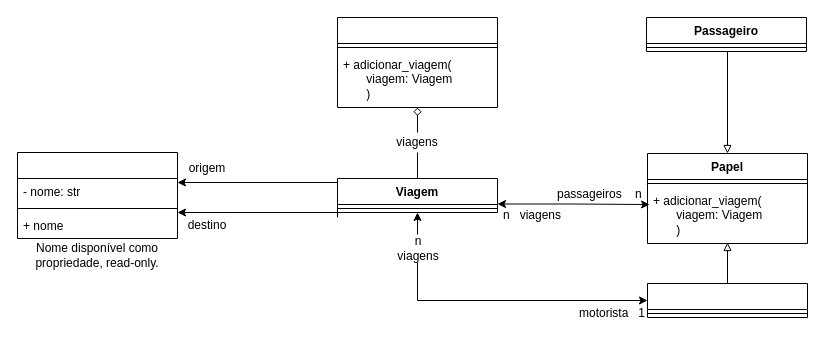
Image size: 825x341. Some labels were removed from this diagram. Each missing label, with the box of its shape:
Cidade: (16, 152, 178, 238)
Motorista: (646, 282, 808, 318)
Onibus: (336, 16, 498, 108)
